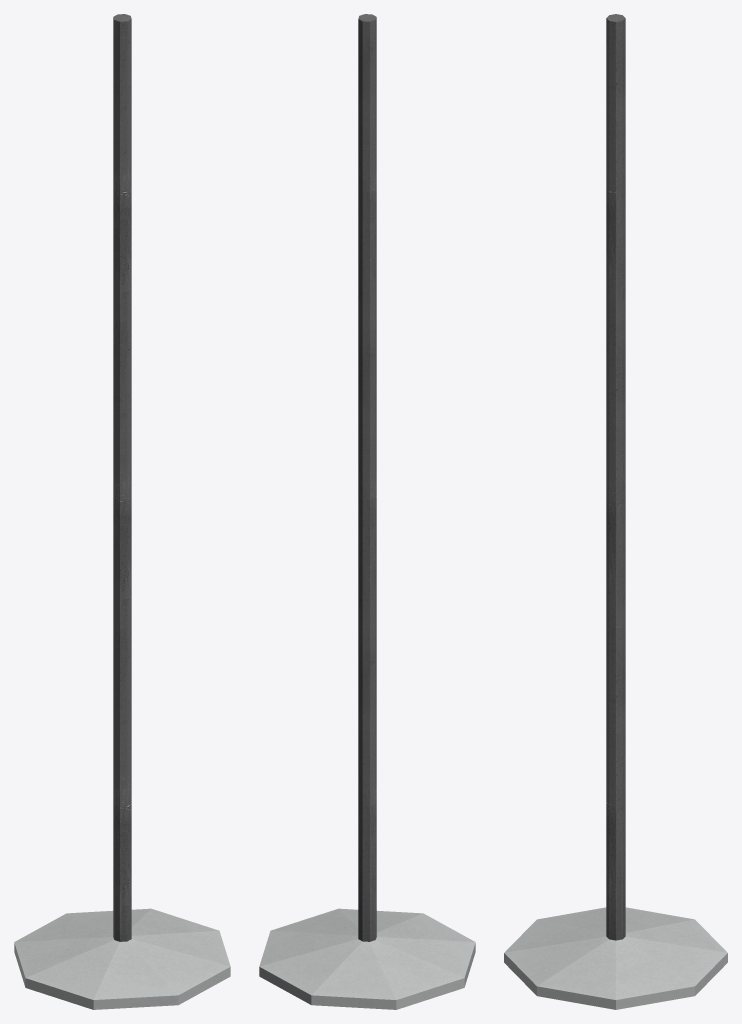
Rendered from circle_light_ceiling.fbx.
3 views of the same model, side by side, from view 1: azimuth 30°, elevation 25°; view 2: azimuth 150°, elevation 25°; view 3: azimuth 270°, elevation 25° (orthographic).
Visible parts, largest first — view 1: circle light ceiling; view 2: circle light ceiling; view 3: circle light ceiling.
Boxes of the visible parts, left/top/right/bottom form: circle light ceiling: left=14, top=14, right=230, bottom=1009; circle light ceiling: left=259, top=14, right=475, bottom=1009; circle light ceiling: left=504, top=14, right=727, bottom=1009.
Size of the model in its own units: 200 by 947 by 200.
